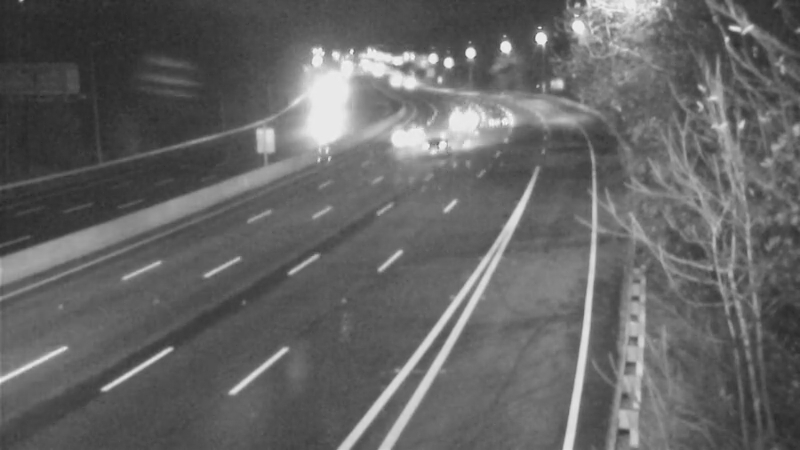vehicle: (385, 56, 435, 106), (434, 88, 484, 138), (471, 91, 521, 141), (378, 107, 428, 157), (410, 120, 460, 170)
